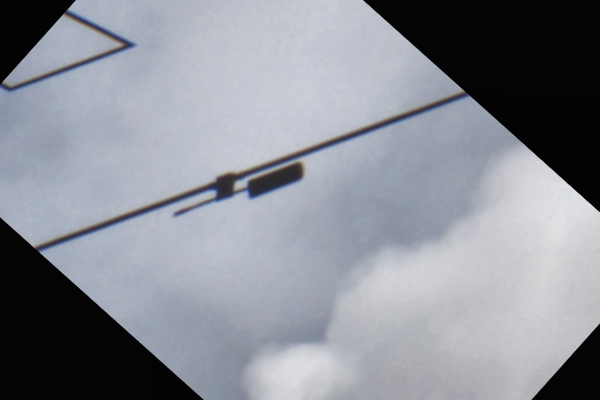damper_defect: (166, 156, 314, 220)
